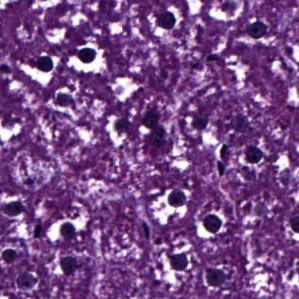inflammation: (140, 105, 169, 149), (185, 110, 214, 132), (52, 88, 76, 110), (15, 270, 39, 291), (243, 141, 263, 165), (167, 186, 188, 208), (206, 266, 227, 288), (58, 255, 81, 274), (0, 246, 21, 266), (202, 214, 225, 232), (60, 218, 78, 241), (248, 20, 269, 39), (155, 12, 178, 29), (169, 252, 189, 271), (79, 43, 98, 61)
